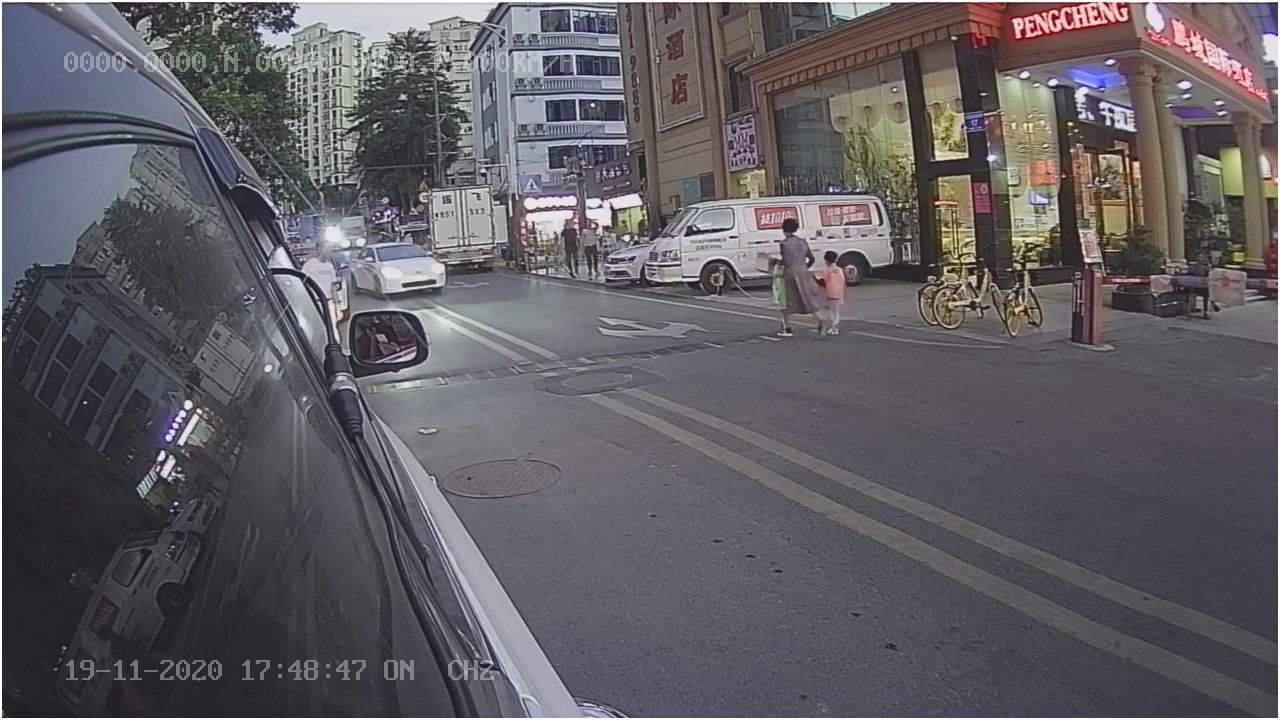person: (761, 215, 833, 351)
